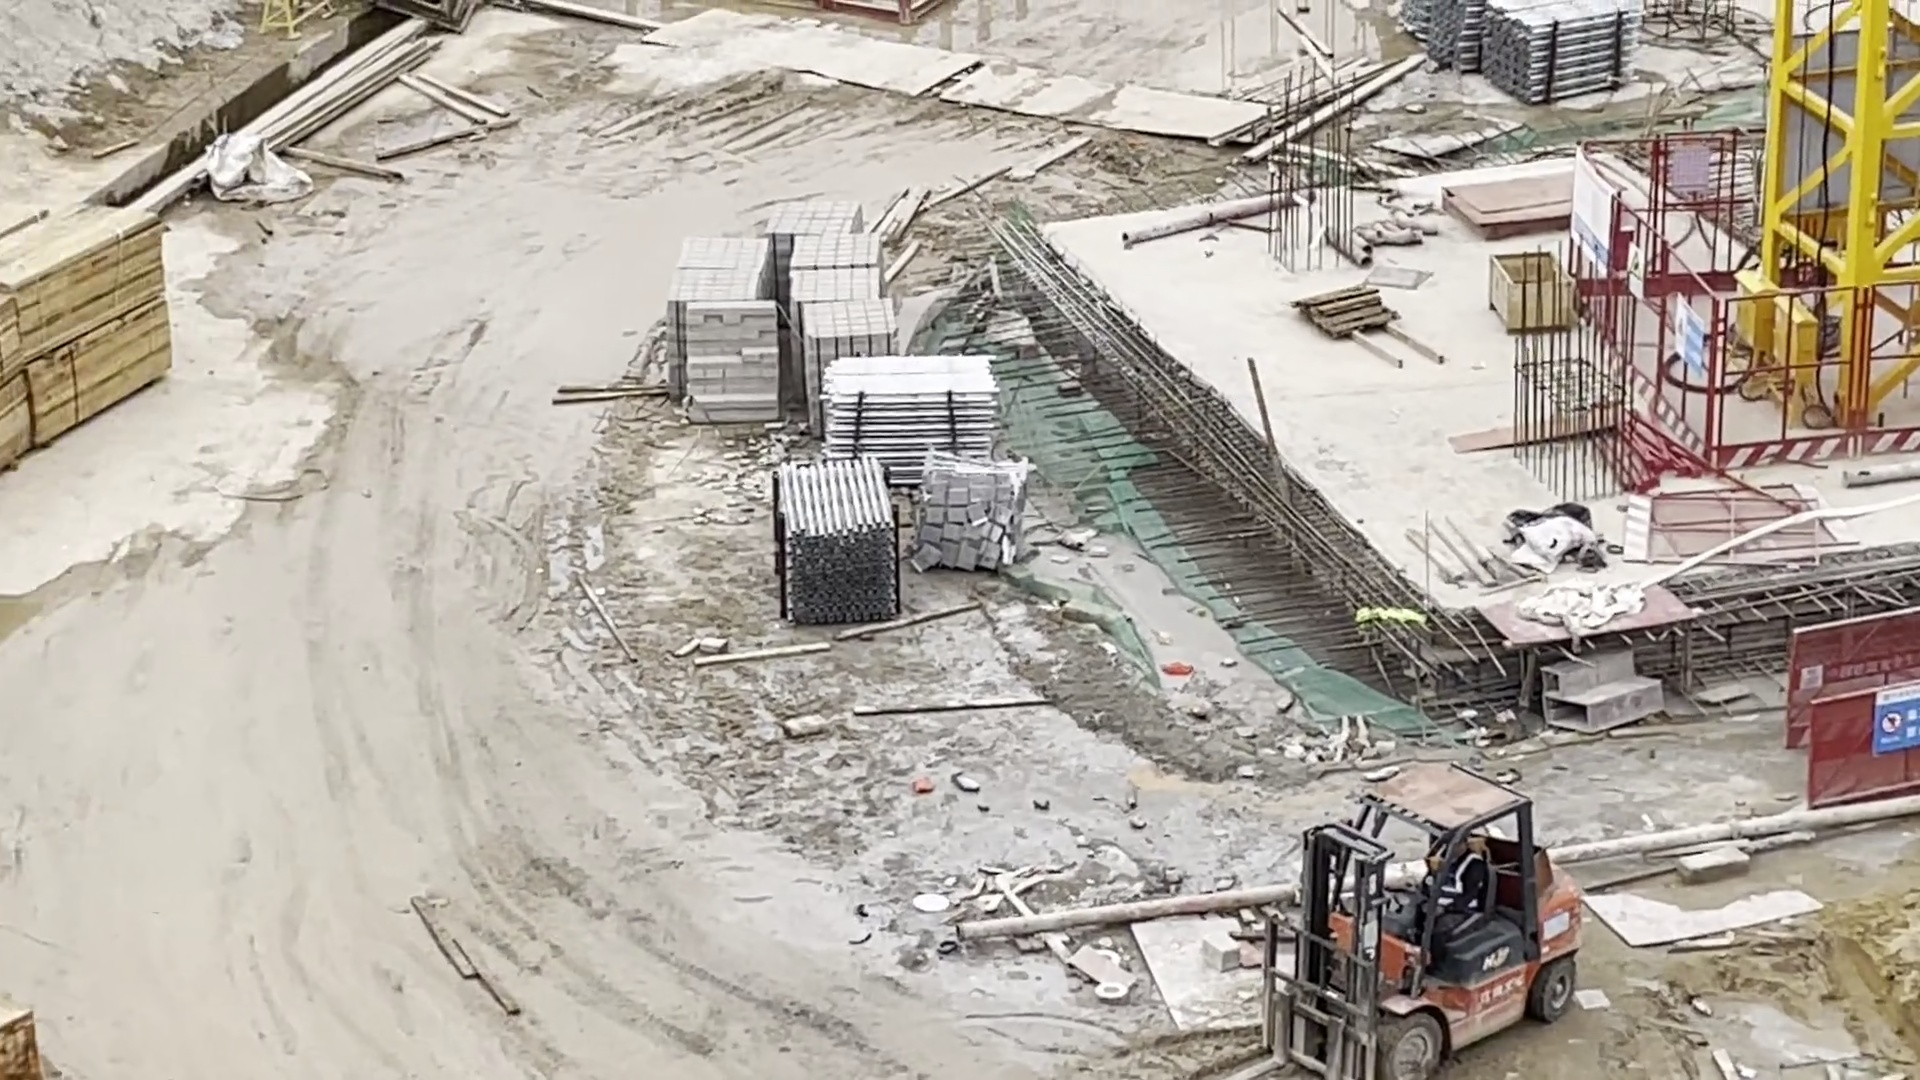brick: (657, 178, 902, 434)
ebox: (1721, 266, 1824, 393)
fence: (1550, 118, 1744, 473), (1706, 272, 1920, 493), (1765, 596, 1920, 813)
hopper: (1465, 246, 1592, 338)
person: (1435, 835, 1498, 945)
scaffold: (1399, 1, 1685, 116), (756, 451, 919, 627), (808, 347, 996, 480)
slogan: (1571, 158, 1638, 272), (1656, 288, 1721, 376), (1858, 681, 1920, 760), (1614, 242, 1657, 304)
vest: (1444, 859, 1487, 912)
wood: (2, 178, 188, 495), (2, 993, 56, 1080)
